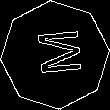M_W: (28, 30, 82, 80)
